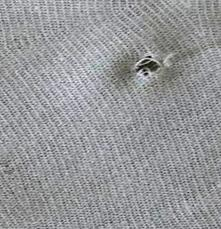hole: (123, 52, 166, 82)
